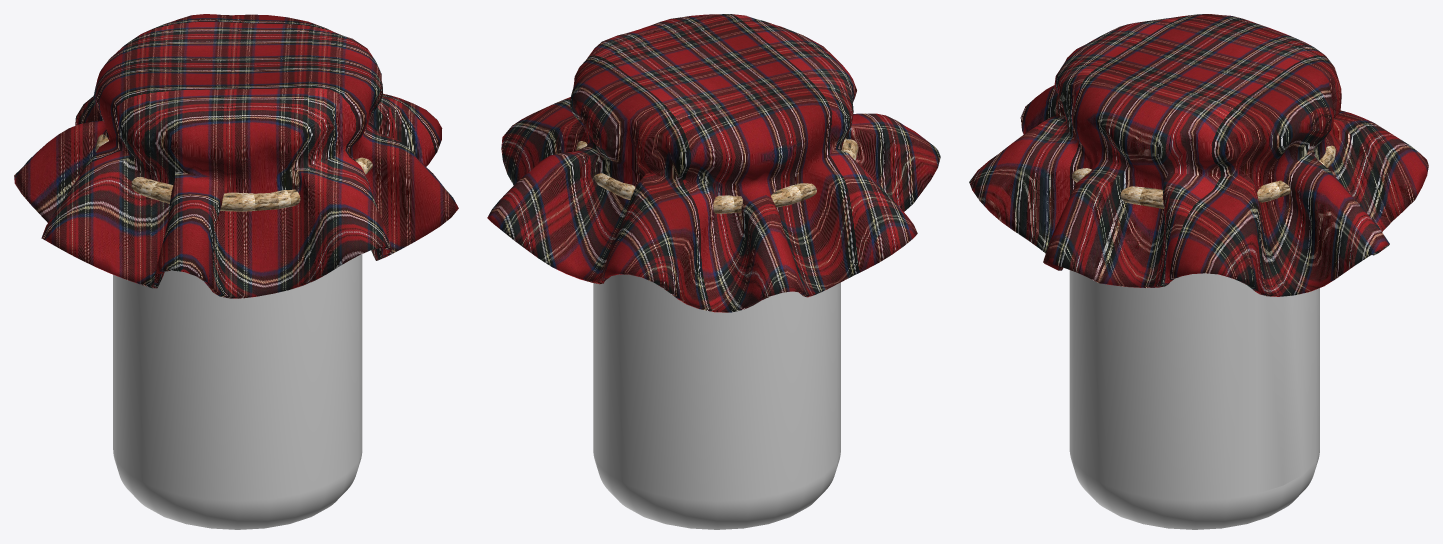
Rendered from jam.fbx.
The picture shows the model from 3 angles, left to right: view 1: azimuth 30°, elevation 25°; view 2: azimuth 150°, elevation 25°; view 3: azimuth 270°, elevation 25°; orthographic projection.
Visible parts, largest first — view 1: Cloth_Shape_001, Group#3_001, Group_001; view 2: Cloth_Shape_001, Group#3_001, Group_001; view 3: Cloth_Shape_001, Group#3_001, Group_001.
Boxes of the visible parts, left/top/right/bottom form: Cloth_Shape_001: left=14, top=14, right=458, bottom=298; Group#3_001: left=113, top=254, right=362, bottom=529; Group_001: left=95, top=134, right=372, bottom=211; Cloth_Shape_001: left=487, top=14, right=940, bottom=312; Group#3_001: left=593, top=274, right=840, bottom=529; Group_001: left=576, top=139, right=858, bottom=213; Cloth_Shape_001: left=969, top=14, right=1428, bottom=296; Group#3_001: left=1069, top=270, right=1319, bottom=529; Group_001: left=1072, top=145, right=1335, bottom=208.
Bounding box in the file's own units: 11.24 × 11.53 × 11.16.
Materials: 4 (3 with a texture image).
